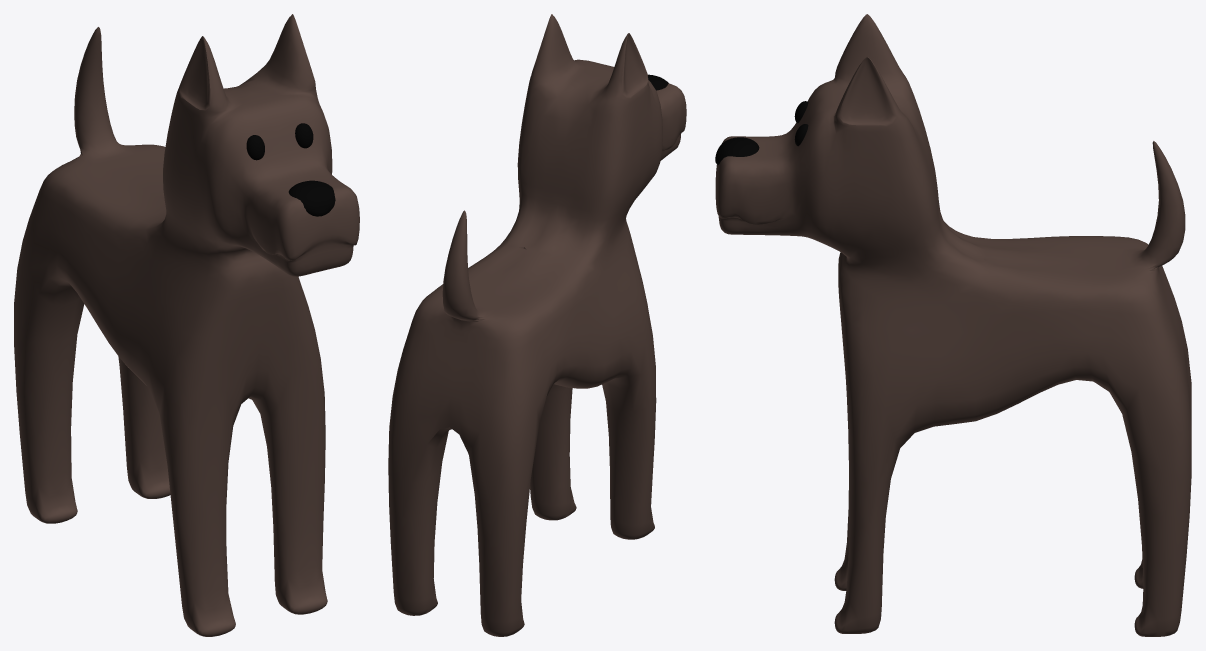
The model's file is mokke.gltf.
3 renders of one model, left to right at view 1: azimuth 30°, elevation 25°; view 2: azimuth 150°, elevation 25°; view 3: azimuth 270°, elevation 25°, orthographic. The views are drawn at different scales.
Visible parts, largest first — view 1: Cube, Sphere; view 2: Cube; view 3: Cube, Sphere.
Boxes of the visible parts, x1,y1,x2,y2 form: Cube: (14,14,359,636); Sphere: (288,180,335,216); Cube: (388,14,686,636); Cube: (715,14,1191,636); Sphere: (715,137,759,164).
Size of the model in its own units: 2.04 by 7.29 by 5.51.
